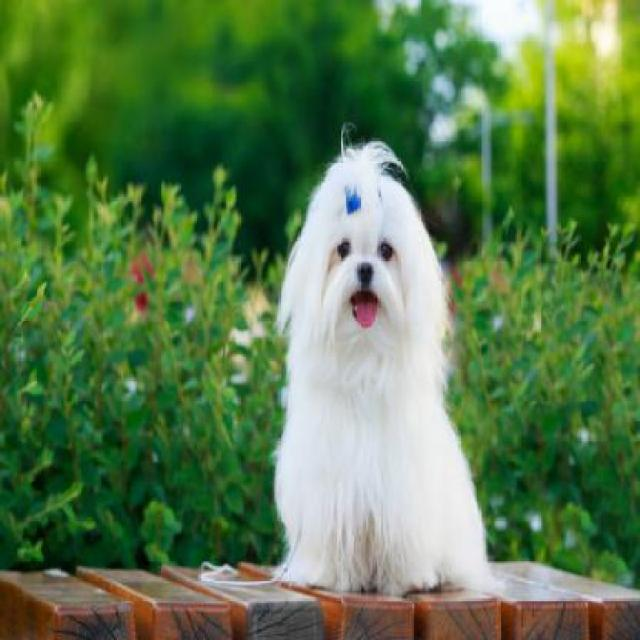Dog: (271, 123, 497, 602)
